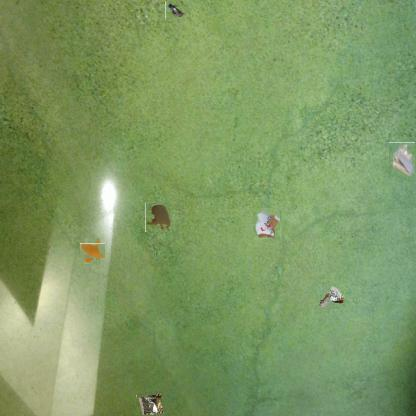dirty: (389, 142, 415, 177), (251, 209, 281, 239), (319, 282, 345, 310), (136, 392, 164, 416), (166, 1, 186, 20)
liquid: (145, 202, 172, 232), (82, 241, 103, 261)
